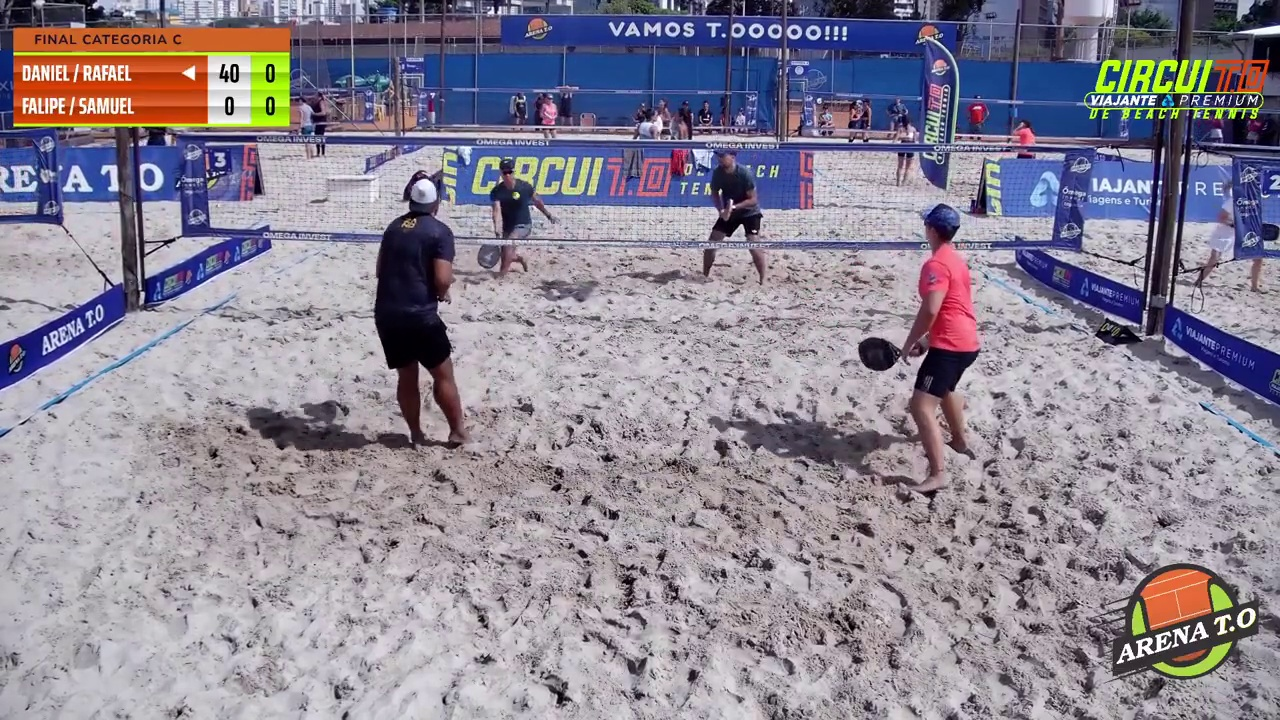court_line: (644, 0, 793, 477), (529, 0, 662, 402)
